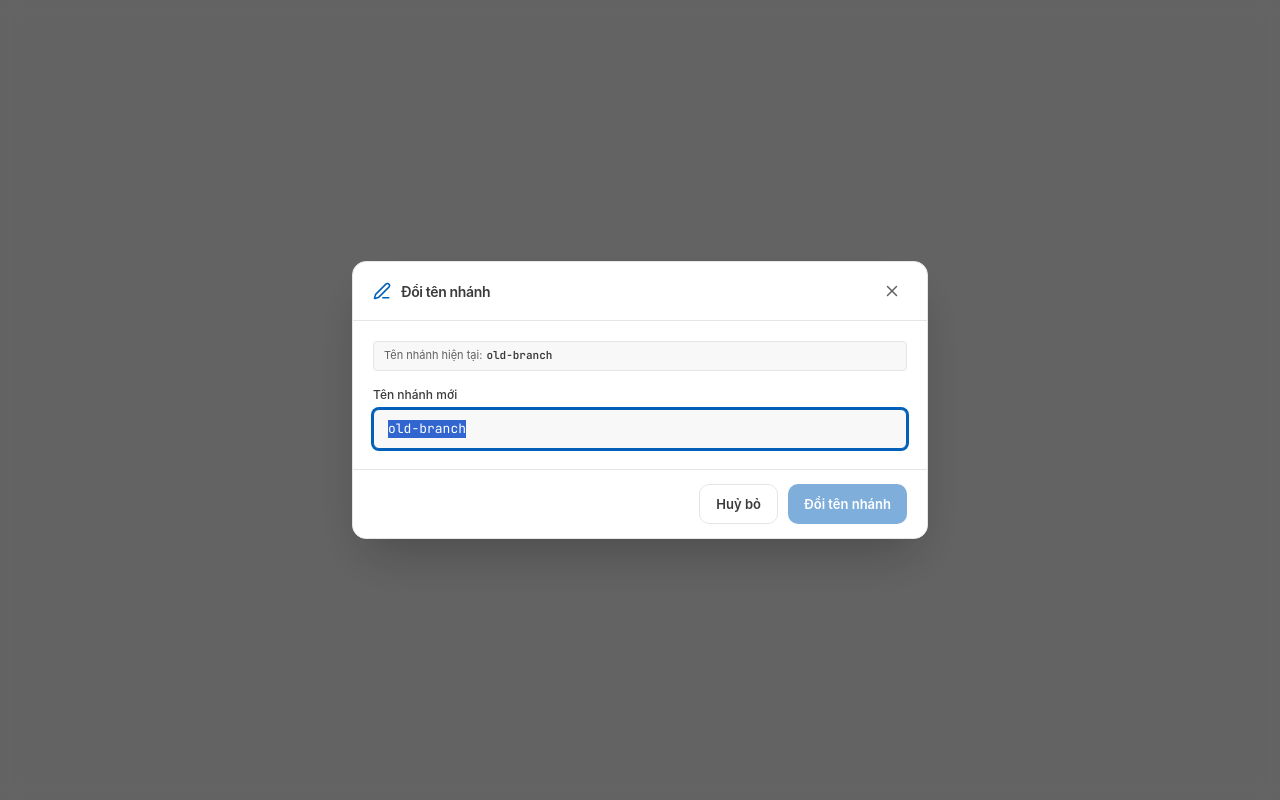
Test case: RenameBranchModal › surfaces the error and stays open when renaming fails
Replace the text in the field labelled "Tên nhánh mới" with "taken": (640, 429) [373,409,907,449]
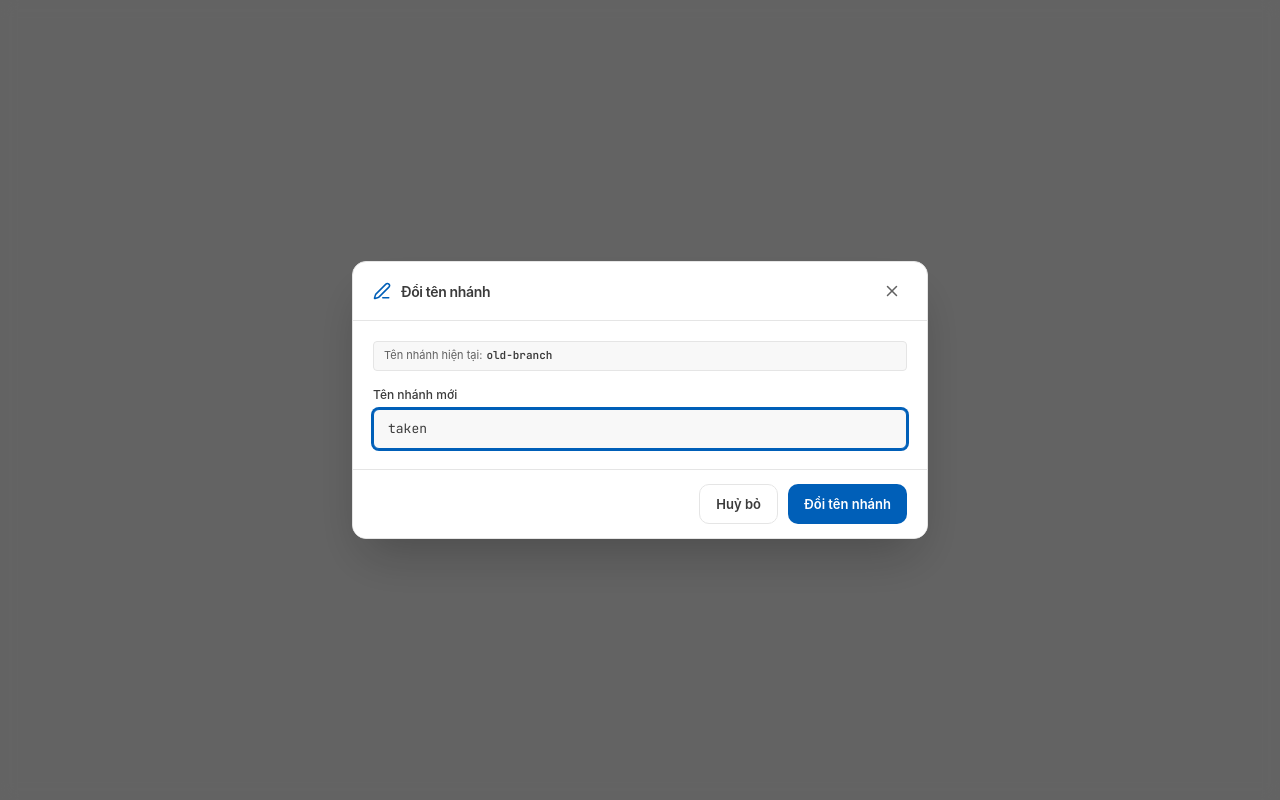
Click the button "Đổi tên nhánh": (848, 504) [788,484,907,524]
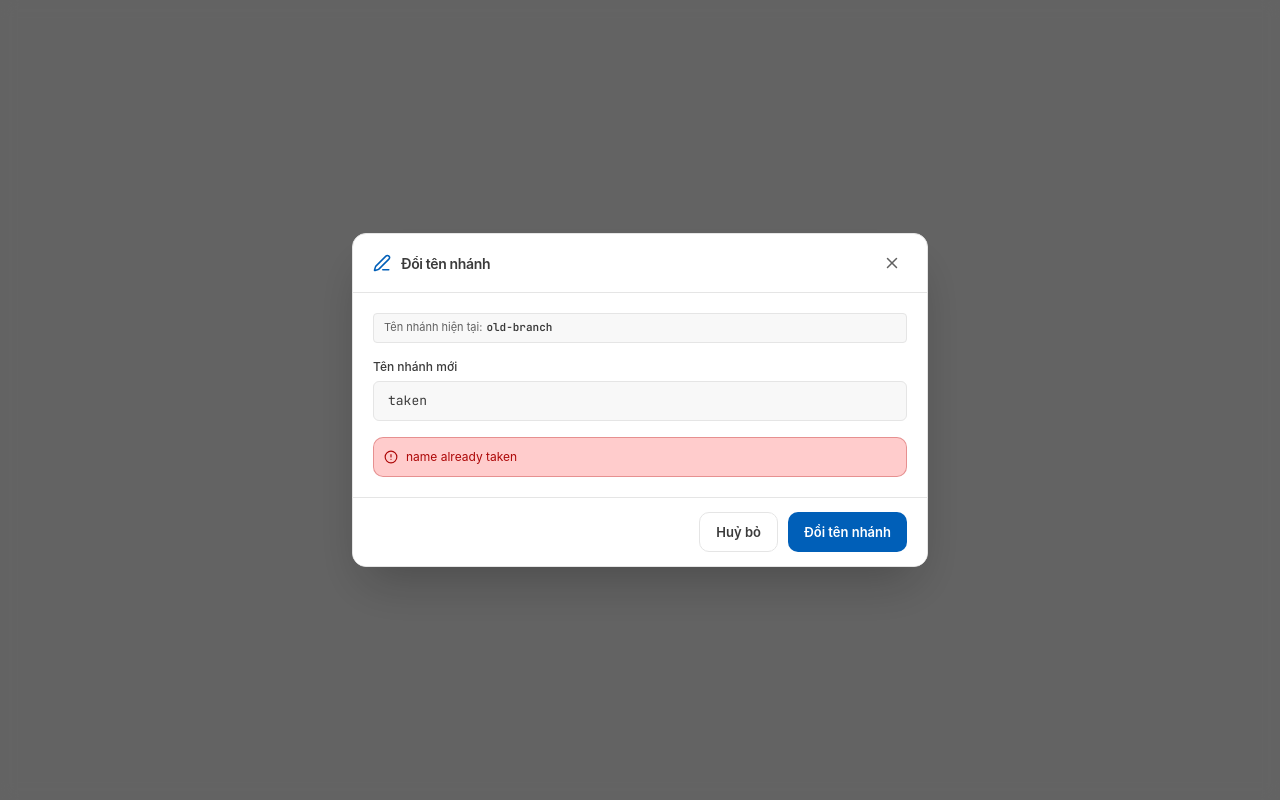
Expected: the text "name already taken" is shown, [406,448,517,466]
